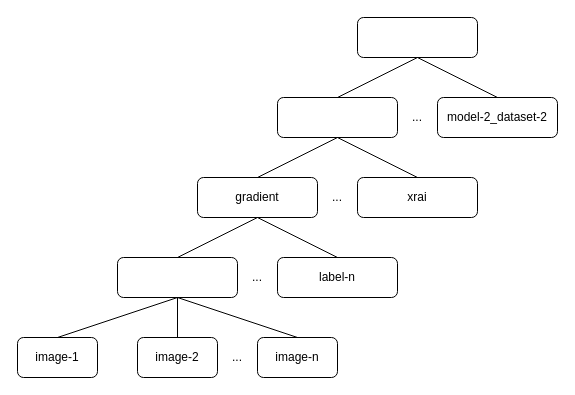
This 575x395 diagram has some shape labels left out. Each missing label, with the centre of its shape:
"label-1" belongs at point (177, 277).
"model-1_dataset-1" belongs at point (337, 117).
"models-datasets" belongs at point (417, 37).
